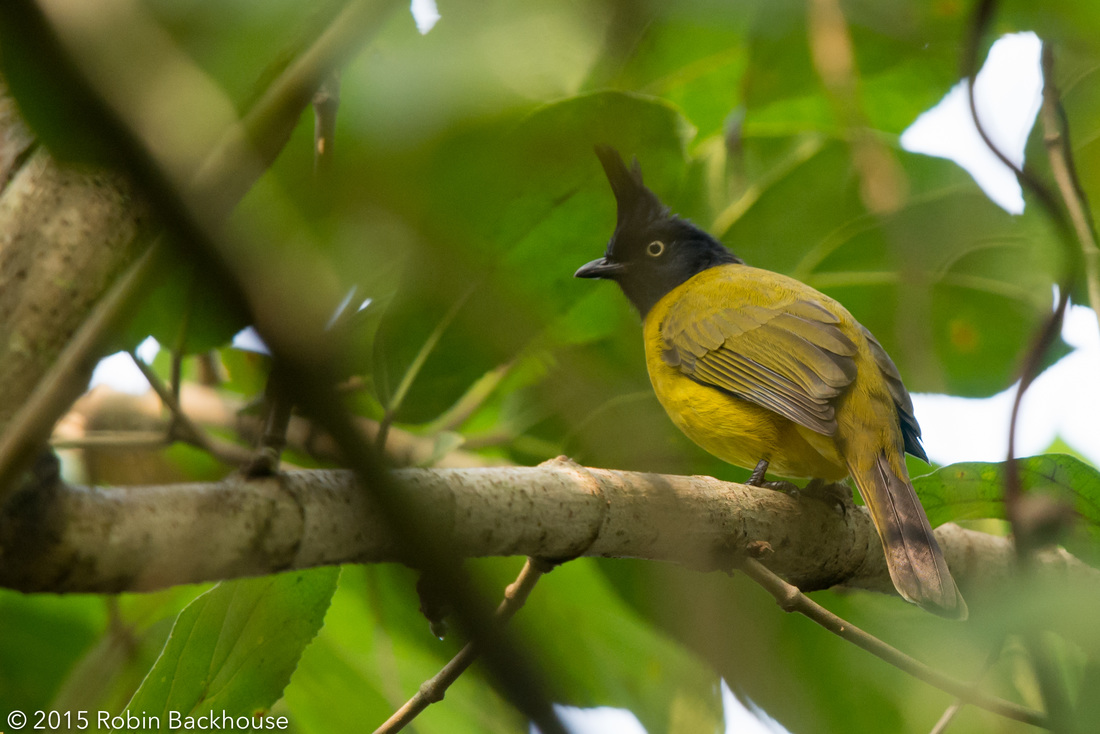bird: (571, 137, 985, 640)
